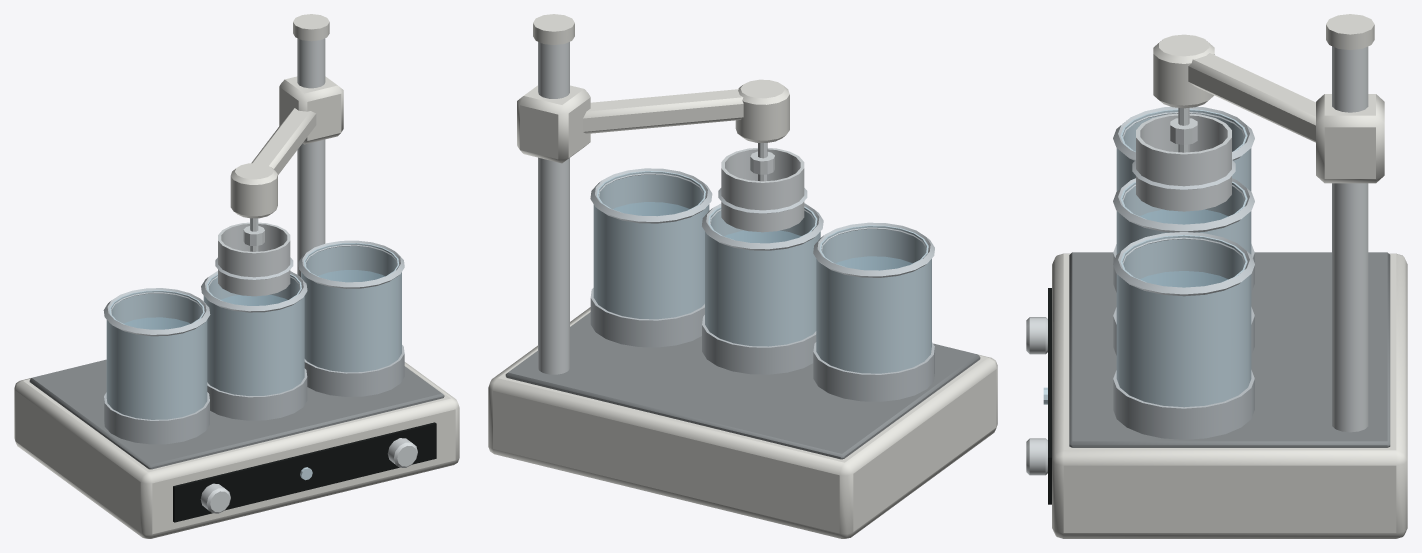
The model's file is cleaning-machine.glb.
3 renders of one model, left to right at view 1: azimuth 30°, elevation 25°; view 2: azimuth 150°, elevation 25°; view 3: azimuth 270°, elevation 25°, orthographic. The views are drawn at different scales.
Parts seen in each view (by area): view 1: machine, jars, metal, baths; view 2: machine, jars, metal, baths; view 3: machine, metal, jars, baths.
Boxes of the visible parts, left/top/right/bottom form: machine: left=14, top=14, right=459, bottom=538; jars: left=106, top=243, right=401, bottom=480; metal: left=103, top=38, right=404, bottom=444; baths: left=124, top=270, right=384, bottom=329; machine: left=488, top=14, right=997, bottom=538; jars: left=593, top=171, right=931, bottom=373; metal: left=538, top=42, right=934, bottom=401; baths: left=613, top=202, right=911, bottom=270; machine: left=1026, top=14, right=1407, bottom=538; metal: left=1113, top=46, right=1368, bottom=439; jars: left=1043, top=109, right=1251, bottom=407; baths: left=1140, top=209, right=1227, bottom=287.
Bounding box in the file's own units: 0.17 × 0.19 × 0.133.
